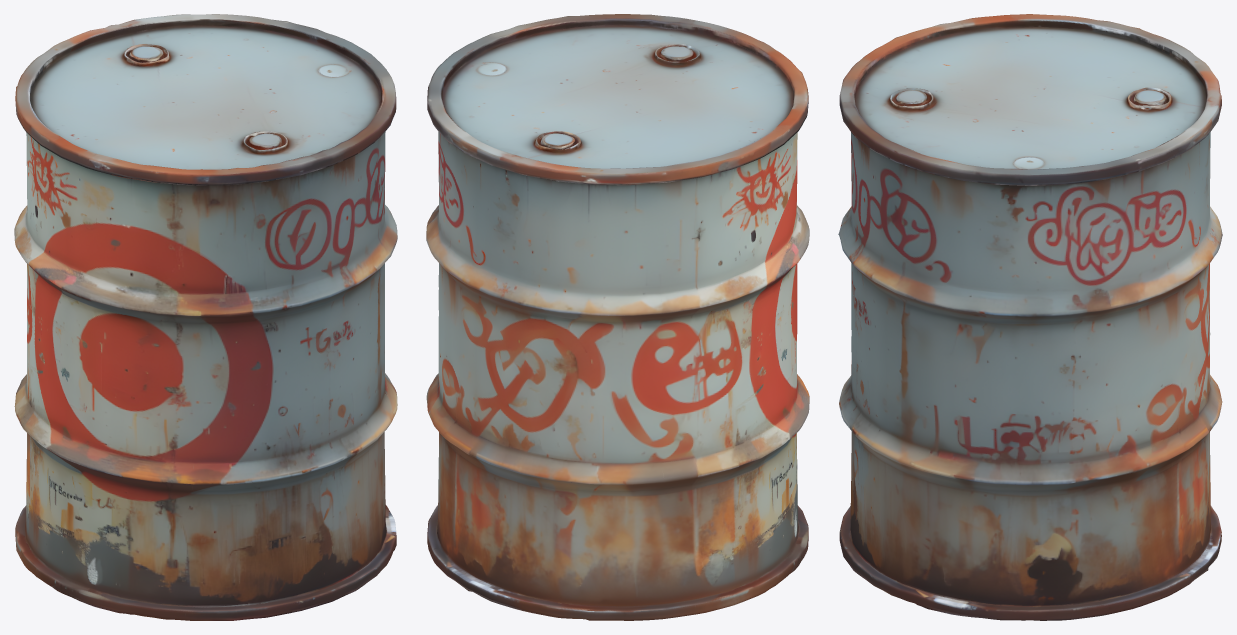
Rendered from barrel.glb.
3 renders of one model, left to right at view 1: azimuth 30°, elevation 25°; view 2: azimuth 150°, elevation 25°; view 3: azimuth 270°, elevation 25°, orthographic.
Parts seen in each view (by area): view 1: model; view 2: model; view 3: model.
Part boxes in pixels (x1,y1,x2,y2): model: (14,14,397,620); model: (426,14,809,620); model: (838,14,1222,620).
Bounding box in the file's own units: 1.48 × 1.9 × 1.48.
Materials: 1 (1 with a texture image).
